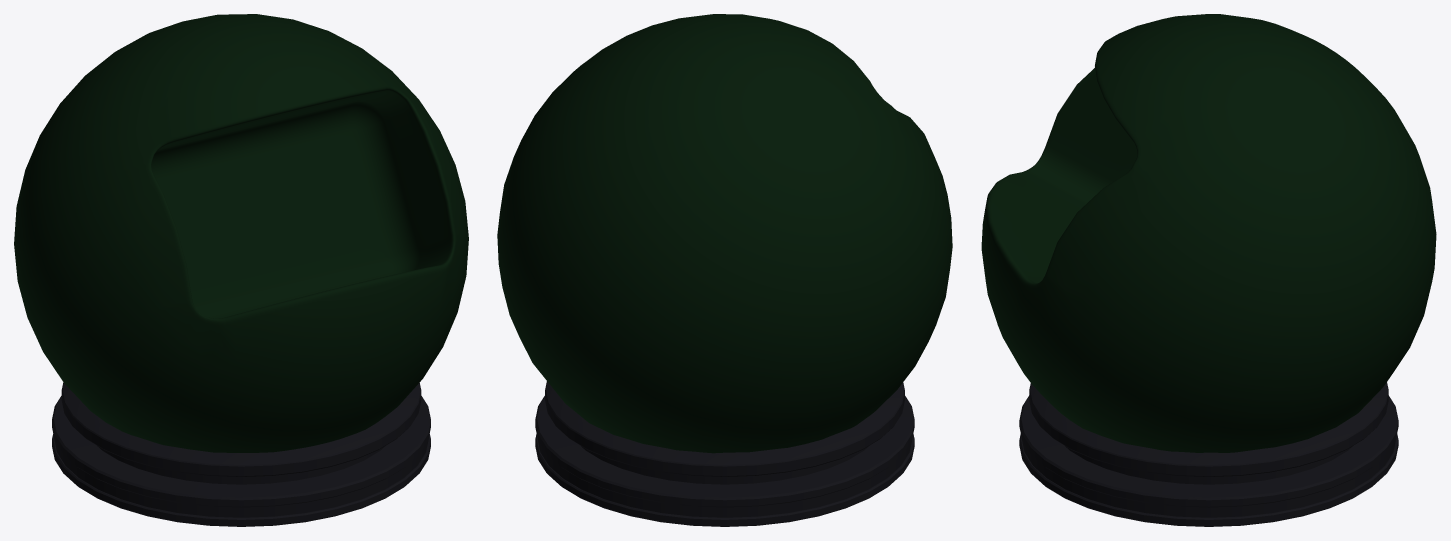
File: pedestal-object.FBX
The picture shows the model from 3 angles, left to right: view 1: azimuth 30°, elevation 25°; view 2: azimuth 150°, elevation 25°; view 3: azimuth 270°, elevation 25°; orthographic projection.
Parts seen in each view (by area): view 1: pedestal-object; view 2: pedestal-object; view 3: pedestal-object.
Part boxes in pixels (left/top/right/bottom): pedestal-object: left=14, top=14, right=468, bottom=526; pedestal-object: left=497, top=14, right=952, bottom=526; pedestal-object: left=981, top=14, right=1436, bottom=526.
Size of the model in its own units: 9.93 by 9.99 by 9.99.
